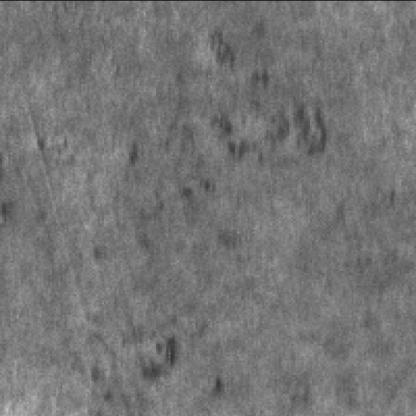rolled-in_scale: (177, 25, 331, 206), (81, 322, 231, 416)
